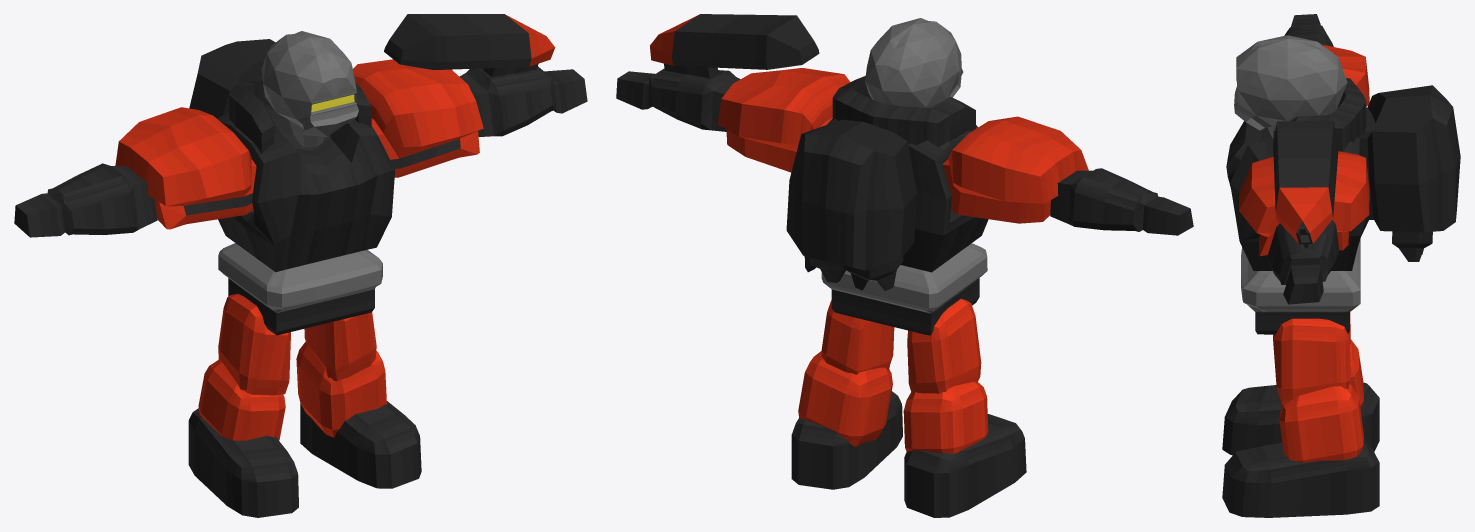
Rendered from myRob2.glb.
3 renders of one model, left to right at view 1: azimuth 30°, elevation 25°; view 2: azimuth 150°, elevation 25°; view 3: azimuth 270°, elevation 25°, orthographic.
Visible parts, largest first — view 1: Icosphere.001; view 2: Icosphere.001; view 3: Icosphere.001.
Part boxes in pixels (x1,y1,x2,y2): Icosphere.001: [14, 14, 587, 517]; Icosphere.001: [616, 14, 1193, 517]; Icosphere.001: [1222, 14, 1460, 517].
Bounding box in the file's own units: 2.16 × 1.62 × 0.8069.
1 material, 1 textured.
